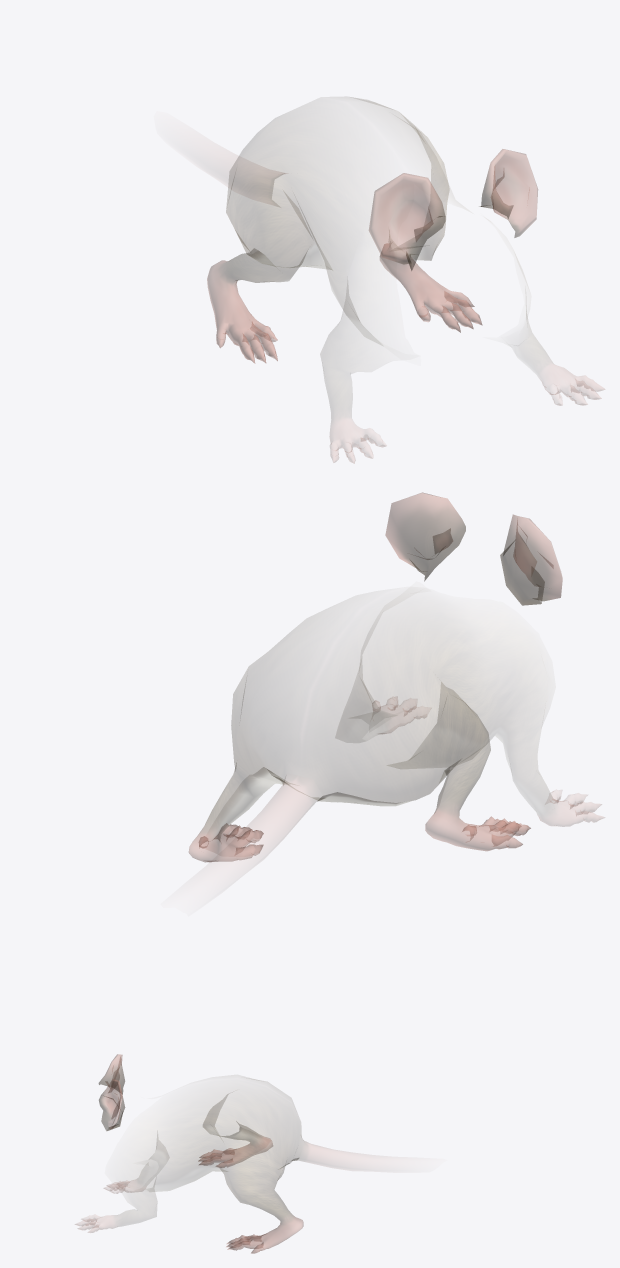
File: Mouse16.gltf
3 renders of one model, top to bottom at view 1: azimuth 30°, elevation 25°; view 2: azimuth 150°, elevation 25°; view 3: azimuth 270°, elevation 25°, orthographic. The views are drawn at different scales.
Parts seen in each view (by area): view 1: Polygon (Copy); view 2: Polygon (Copy); view 3: Polygon (Copy).
Part boxes in pixels (bbox=[...]): Polygon (Copy): bbox=[207, 97, 604, 463]; Polygon (Copy): bbox=[189, 492, 604, 862]; Polygon (Copy): bbox=[75, 1054, 366, 1253].
Size of the model in its own units: 70.26 by 65.33 by 232.
Materials: 1 (1 with a texture image).
